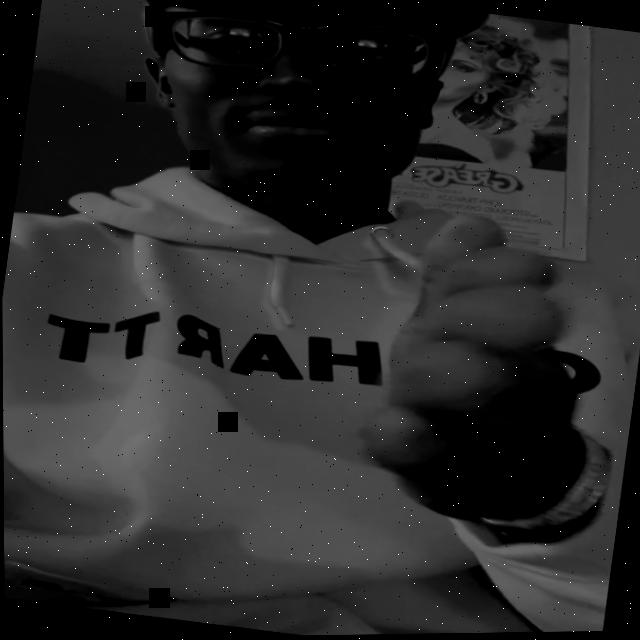Paper: (344, 203, 613, 542)
